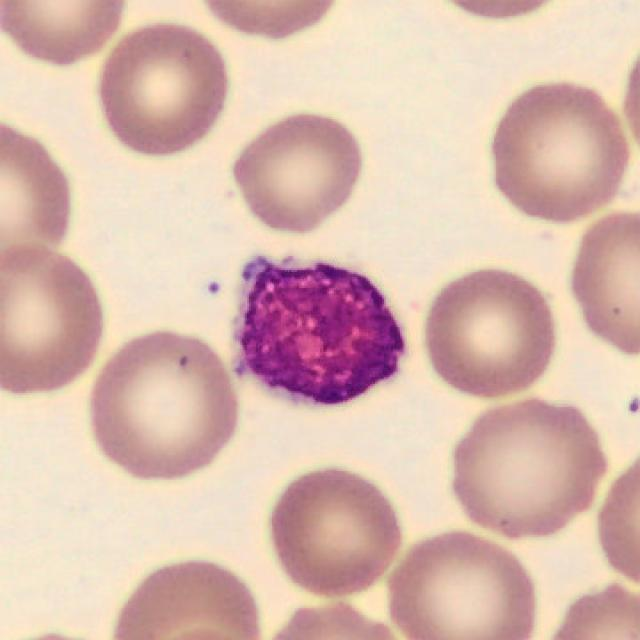Linfocito: (235, 256, 404, 404)
